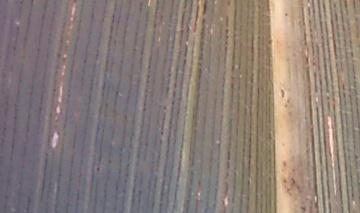tarspot: (278, 86, 286, 101), (288, 175, 296, 185), (297, 205, 306, 213), (281, 175, 288, 185), (281, 158, 288, 168), (266, 38, 274, 46), (106, 158, 113, 165), (283, 11, 289, 18), (95, 166, 101, 173), (161, 104, 167, 111), (353, 153, 359, 160), (159, 129, 164, 136), (283, 102, 288, 109), (306, 1, 311, 4)
